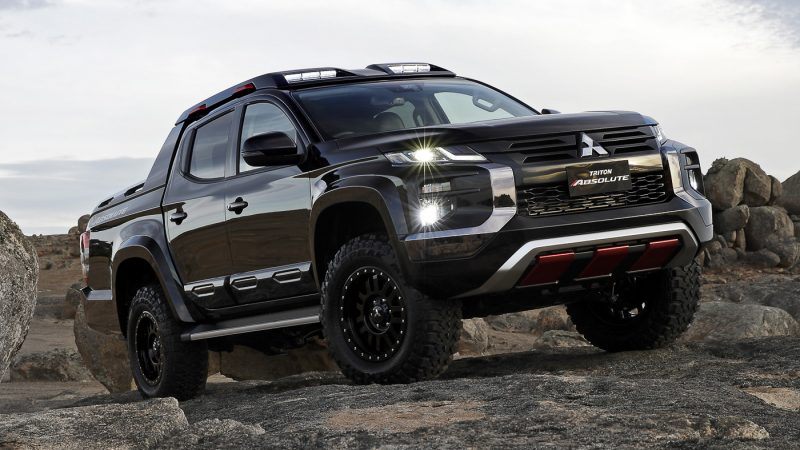pickup: (81, 61, 716, 398)
